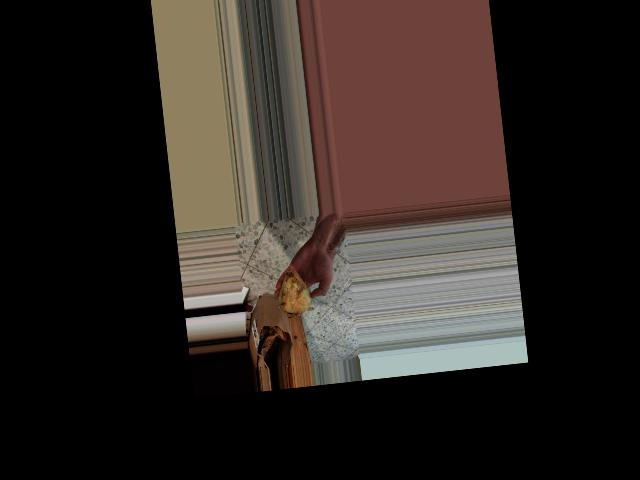onion: (272, 261, 319, 321)
